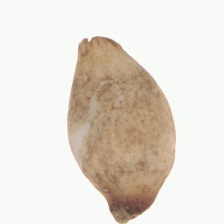L1: (105, 198, 149, 224), (75, 33, 121, 55)
L2: (67, 35, 177, 224)
